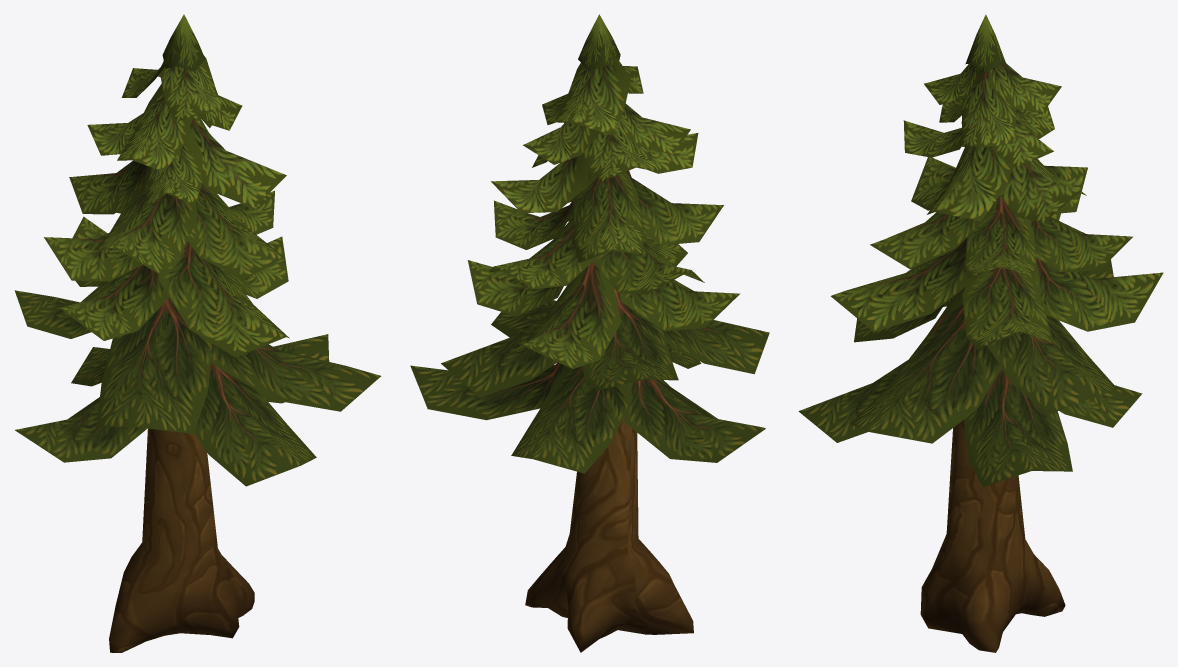
Rendered from Pine_tree_2.FBX.
The picture shows the model from 3 angles, left to right: view 1: azimuth 30°, elevation 25°; view 2: azimuth 150°, elevation 25°; view 3: azimuth 270°, elevation 25°; orthographic projection.
Parts seen in each view (by area): view 1: Pine_tree_2; view 2: Pine_tree_2; view 3: Pine_tree_2.
Part boxes in pixels (x1=…): Pine_tree_2: x1=14, y1=14, x2=380, y2=652; Pine_tree_2: x1=410, y1=14, x2=769, y2=652; Pine_tree_2: x1=798, y1=14, x2=1163, y2=652.
Size of what is drawn, in the model's own units: 486 by 460 by 844.
